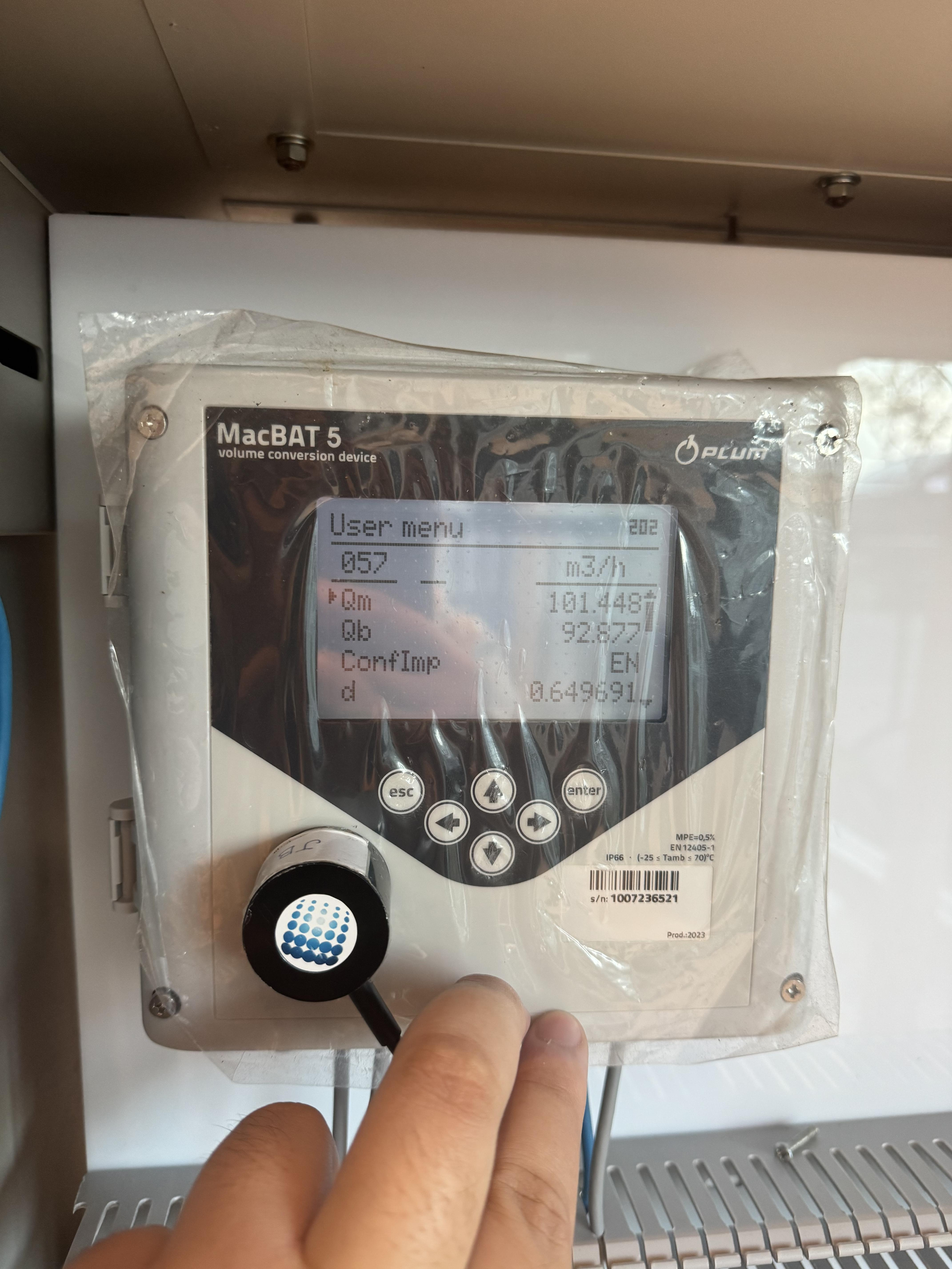digital_screen: (316, 499, 676, 722)
